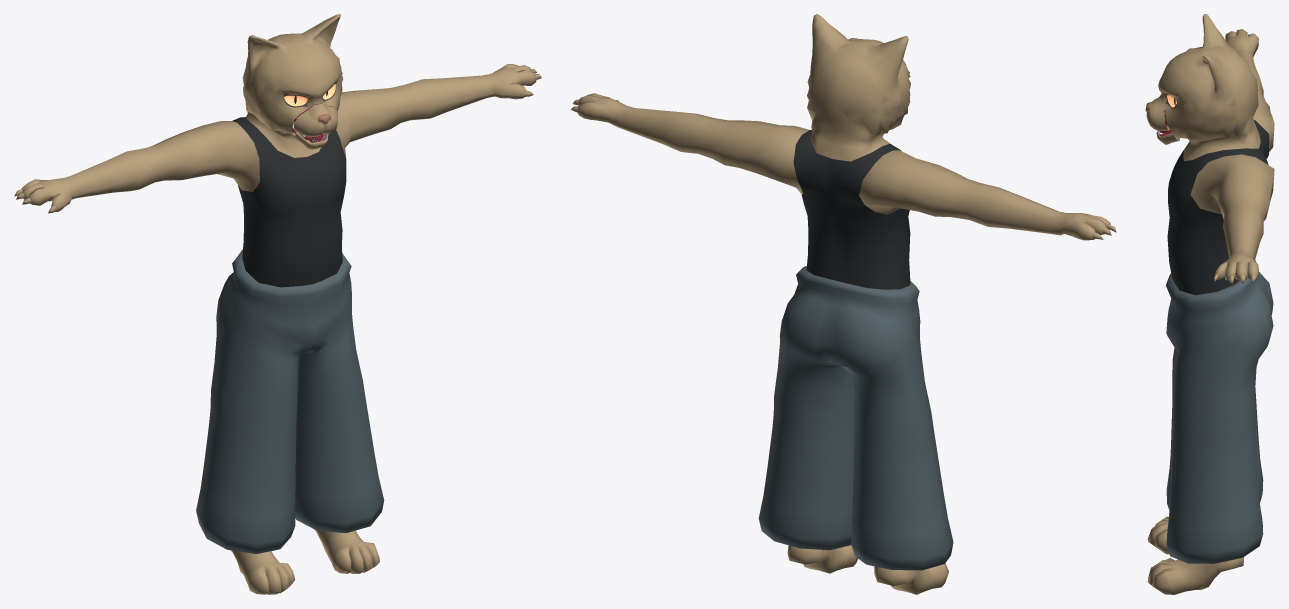
Rendered from main 2 oral decouple.fbx.
The picture shows the model from 3 angles, left to right: view 1: azimuth 30°, elevation 25°; view 2: azimuth 150°, elevation 25°; view 3: azimuth 270°, elevation 25°; orthographic projection. The views are drawn at different scales.
Parts seen in each view (by area): view 1: CAT_MAIN.042, cat upper mouth; view 2: CAT_MAIN.042; view 3: CAT_MAIN.042, cat upper mouth.
Boxes of the visible parts, box(x1,y1,x2,y2) form: CAT_MAIN.042: box(14, 14, 541, 594); cat upper mouth: box(294, 103, 338, 136); CAT_MAIN.042: box(570, 14, 1116, 594); CAT_MAIN.042: box(1147, 14, 1274, 594); cat upper mouth: box(1145, 96, 1169, 130).
Size of the model in its own units: 127 by 126 by 27.64.
